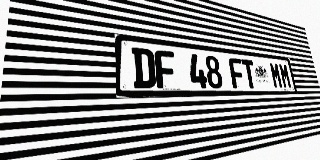4: (188, 53, 208, 88)
8: (204, 55, 223, 88)
D: (132, 47, 156, 88)
F: (154, 50, 177, 88), (228, 58, 246, 88)
M: (269, 62, 283, 88), (278, 63, 292, 88)
T: (241, 59, 257, 88)
